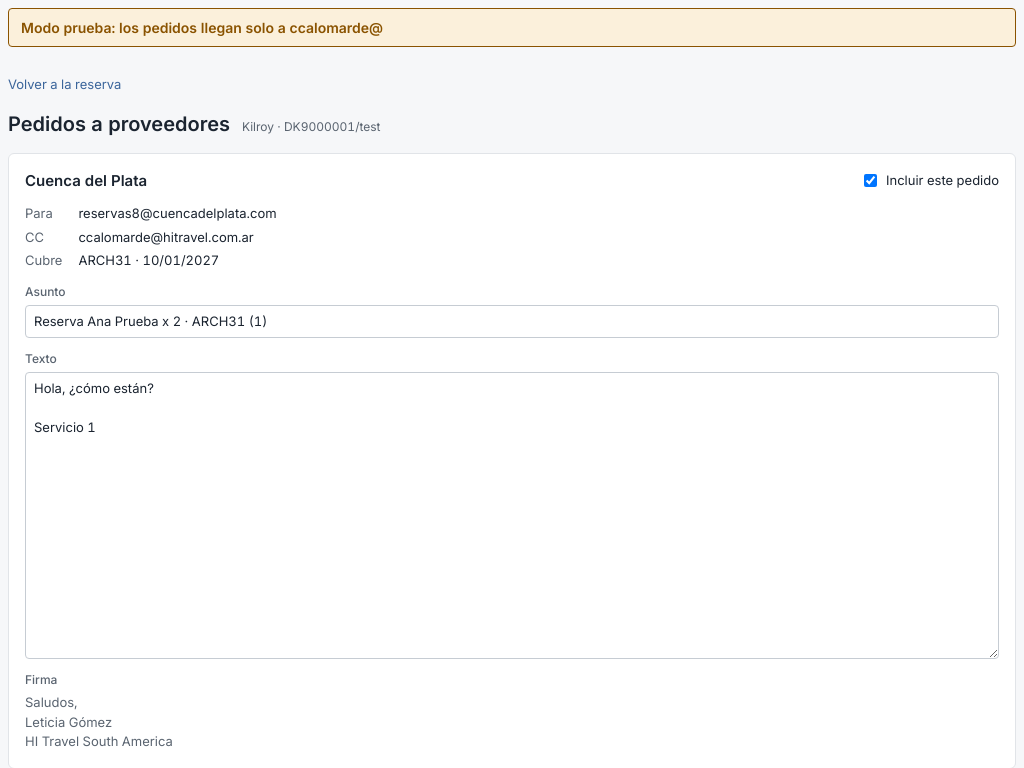
Test case: Incluir este pedido (fila 3) › sin ninguno incluido, el botón queda deshabilitado
Click the checkbox labelled "Incluir este pedido". click: (870, 181)
box: [864,174,877,187]
(page scrolled)
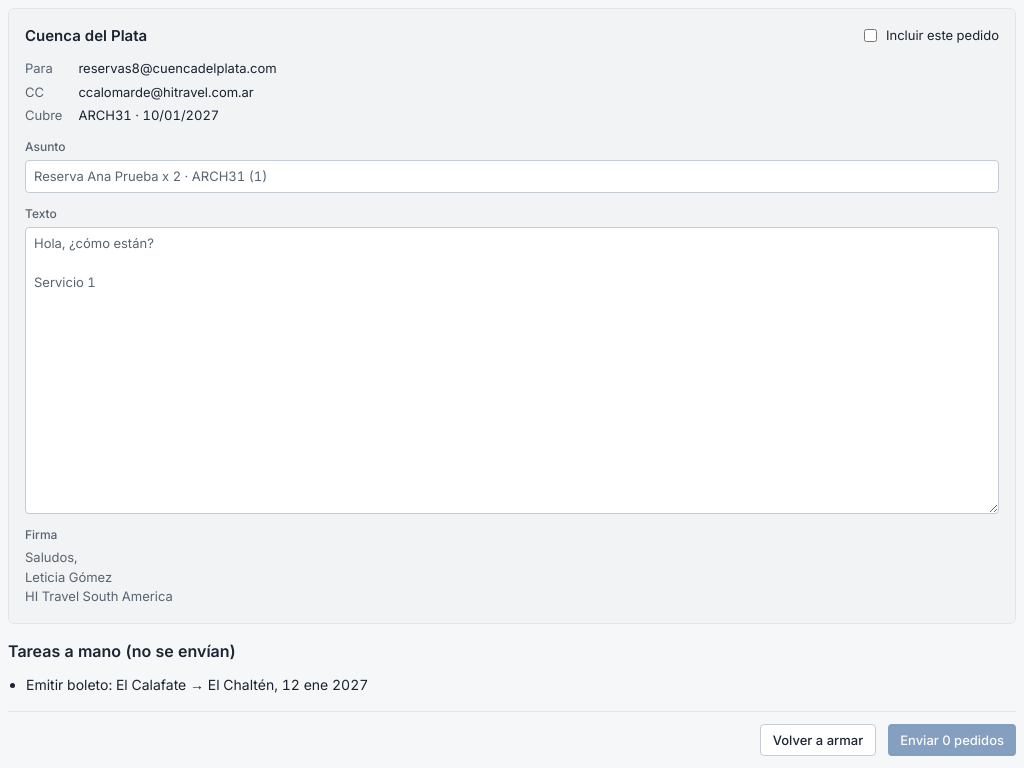
Check: the button "Enviar 0 pedidos" is disabled, box [888,724,1016,756]
